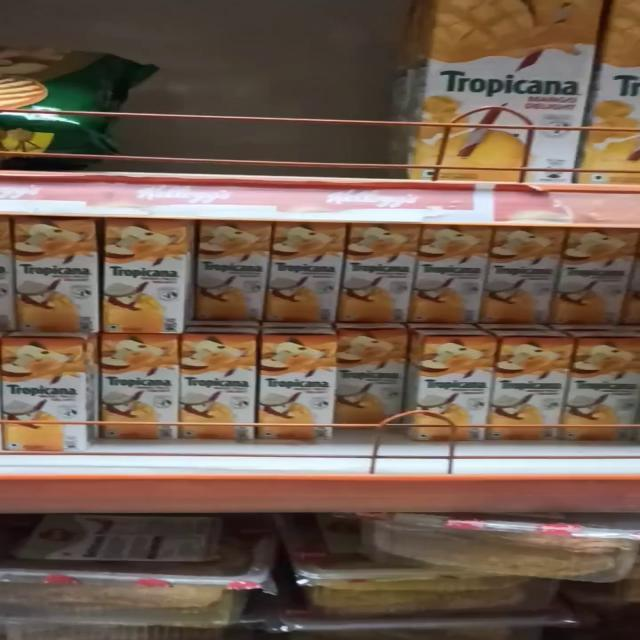Tropicana: (10, 218, 106, 332), (103, 214, 192, 330), (0, 340, 87, 449), (175, 335, 262, 439), (98, 336, 178, 438), (482, 225, 562, 325), (197, 218, 272, 324), (416, 222, 489, 324), (270, 222, 342, 324), (266, 336, 336, 439), (338, 332, 408, 435), (420, 339, 488, 443), (346, 224, 414, 325), (574, 339, 640, 437), (502, 335, 566, 436), (558, 231, 622, 328)
